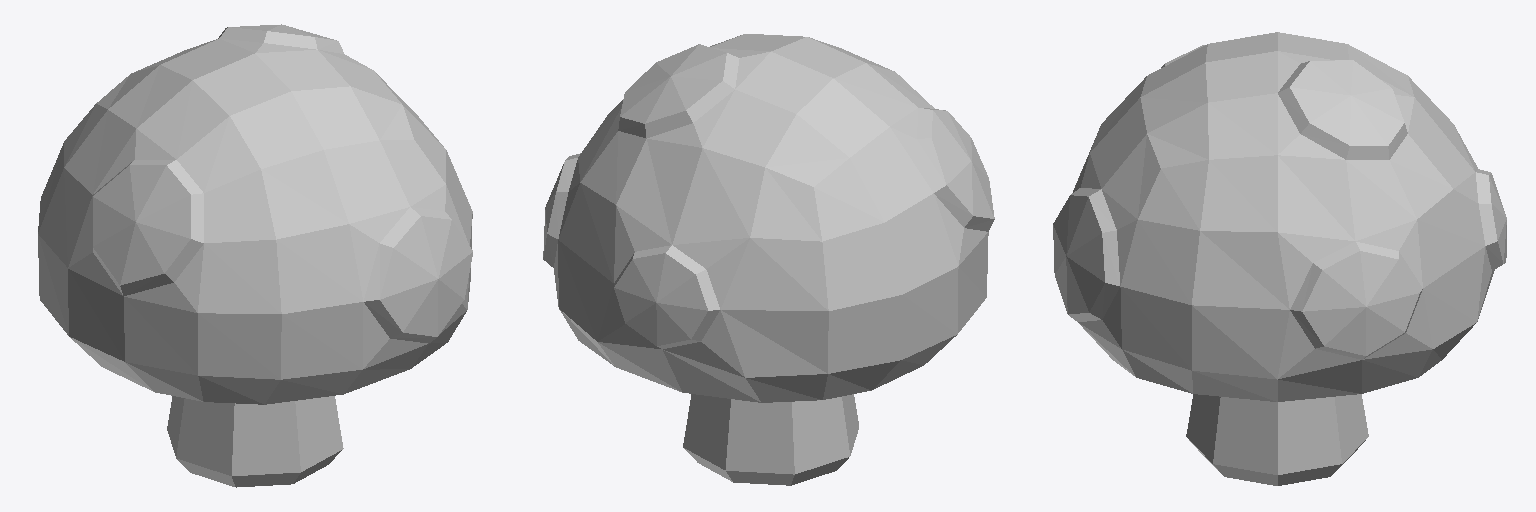
The model's file is Mushroom.obj.
3 renders of one model, left to right at view 1: azimuth 30°, elevation 25°; view 2: azimuth 150°, elevation 25°; view 3: azimuth 270°, elevation 25°, orthographic.
Parts seen in each view (by area): view 1: Mushroom; view 2: Mushroom; view 3: Mushroom.
Boxes of the visible parts, <box> form: Mushroom: <box>38,24,472,487</box>; Mushroom: <box>543,34,994,485</box>; Mushroom: <box>1053,32,1506,485</box>.
Bounding box in the file's own units: 0.3374 × 0.3537 × 0.3504.